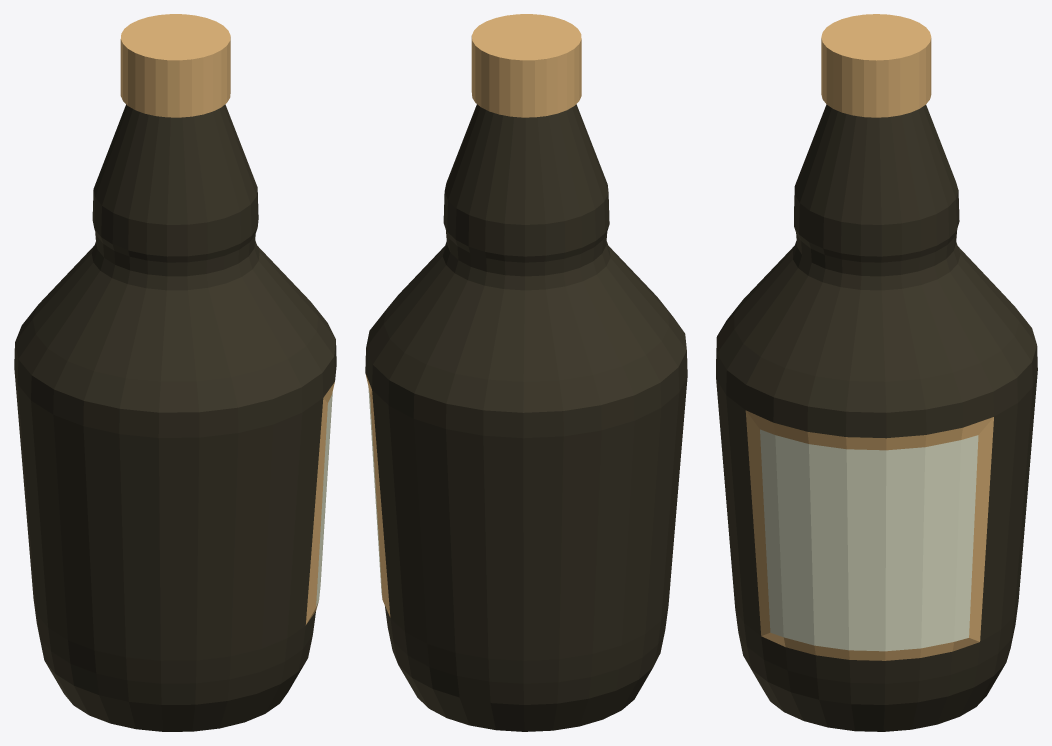
The model's file is liquor3.fbx.
3 views of the same model, side by side, from view 1: azimuth 30°, elevation 25°; view 2: azimuth 150°, elevation 25°; view 3: azimuth 270°, elevation 25° (orthographic).
Visible parts, largest first — view 1: Cylinder; view 2: Cylinder; view 3: Cylinder.
Part boxes in pixels (x1,y1,x2,y2): Cylinder: [14, 14, 336, 731]; Cylinder: [365, 14, 687, 731]; Cylinder: [716, 14, 1037, 731].
Size of the model in its own units: 217 by 480 by 216.
